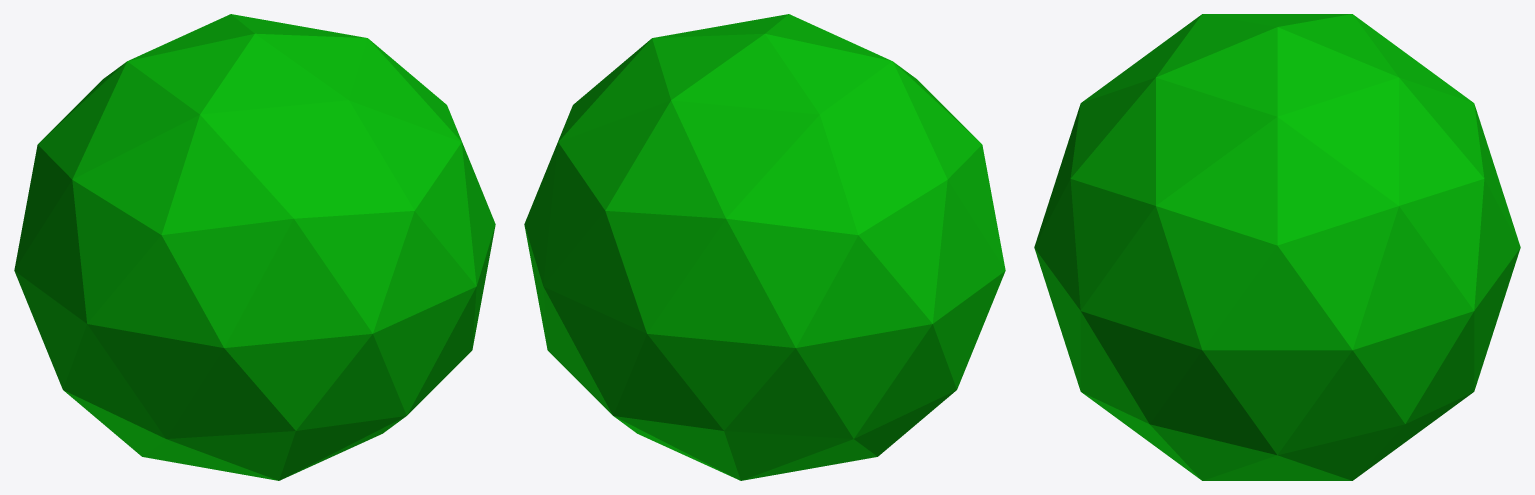
The model's file is AimTrajectoryHitPoint.fbx.
3 renders of one model, left to right at view 1: azimuth 30°, elevation 25°; view 2: azimuth 150°, elevation 25°; view 3: azimuth 270°, elevation 25°, orthographic. The views are drawn at different scales.
Parts seen in each view (by area): view 1: AimTrajectoryHitPoint; view 2: AimTrajectoryHitPoint; view 3: AimTrajectoryHitPoint.
Boxes of the visible parts, x1,y1,x2,y2 form: AimTrajectoryHitPoint: (14, 14, 495, 480); AimTrajectoryHitPoint: (524, 14, 1005, 480); AimTrajectoryHitPoint: (1034, 14, 1520, 480).
Bounding box in the file's own units: 4 × 4 × 4.
